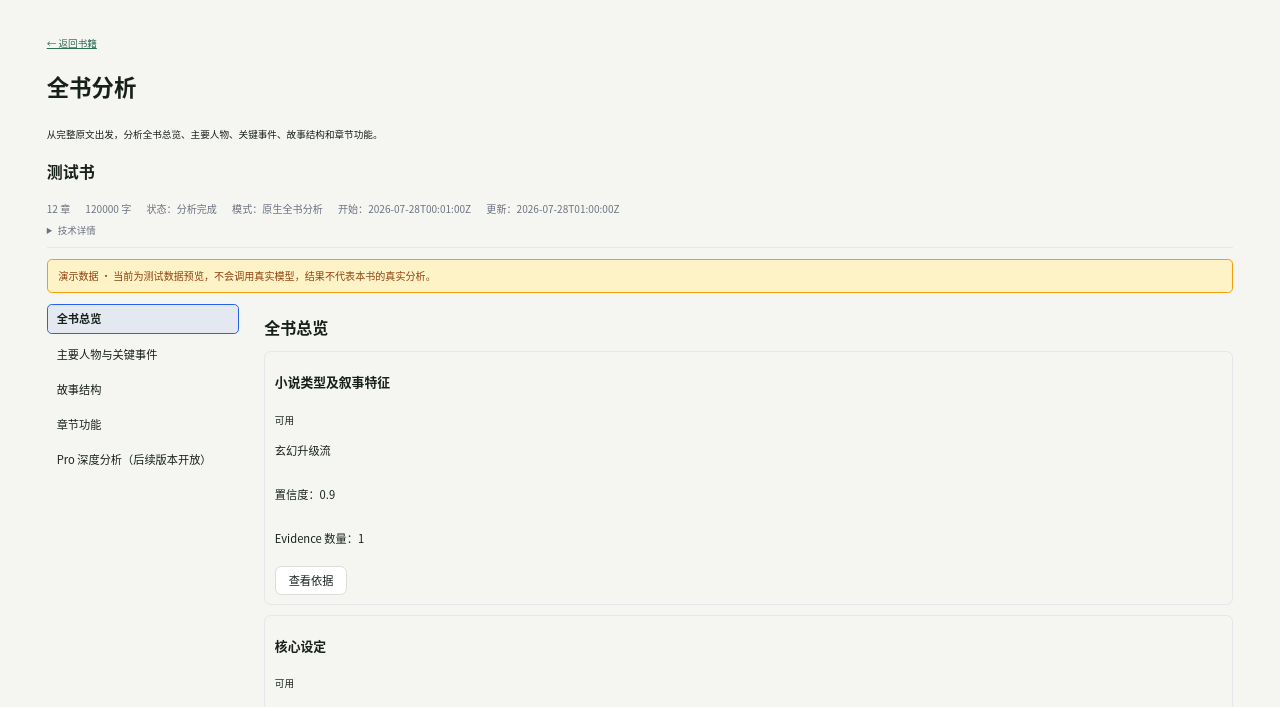
Test case: WholeBookFreeProduct (Wave D §18.2) › opens evidence drawer and reader deeplink
Click the button with test id "whole-book-free-claim-evidence-genre_and_narrative_features".
click(311, 580)  # box [275,566,347,595]
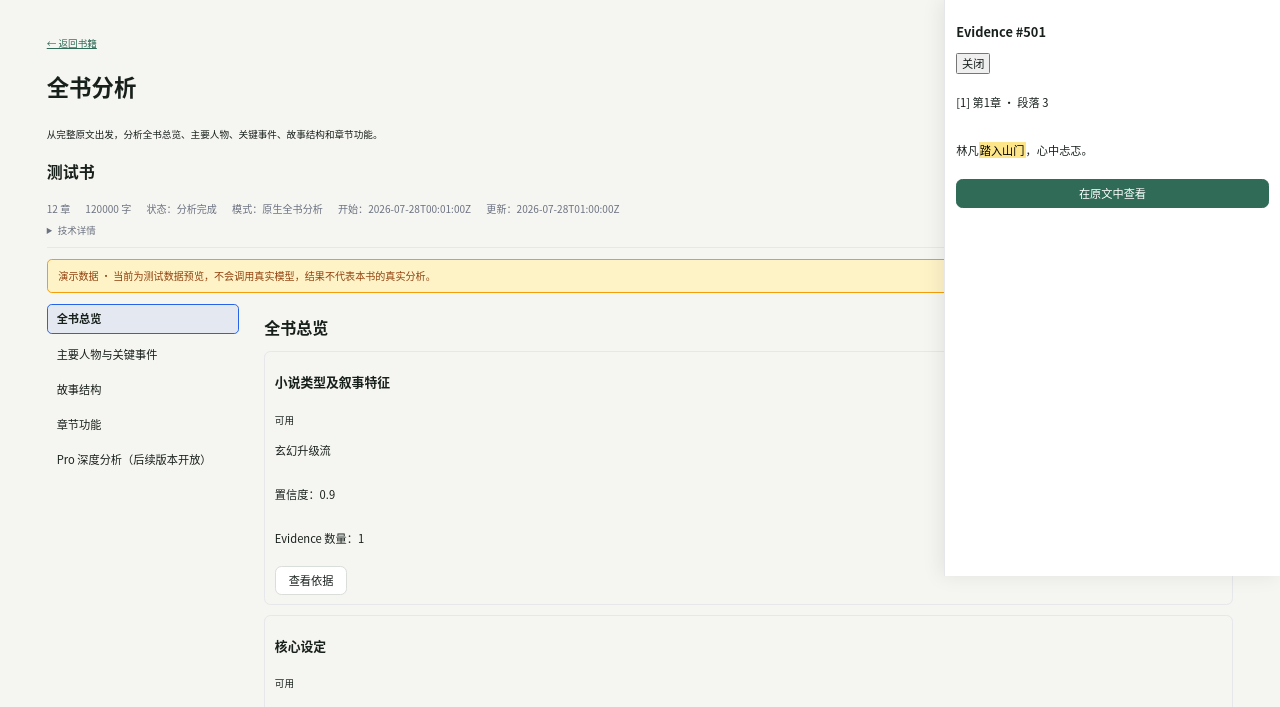
expect the dialog with test id "whole-book-free-evidence-drawer" is shown: met, box [944,0,1279,576]
expect the element with test id "whole-book-free-evidence-paragraph" shows "踏入山门": met, box [980,142,1024,158]
Click the button with test id "whole-book-free-open-in-reader".
click(1112, 193)  # box [956,179,1269,208]
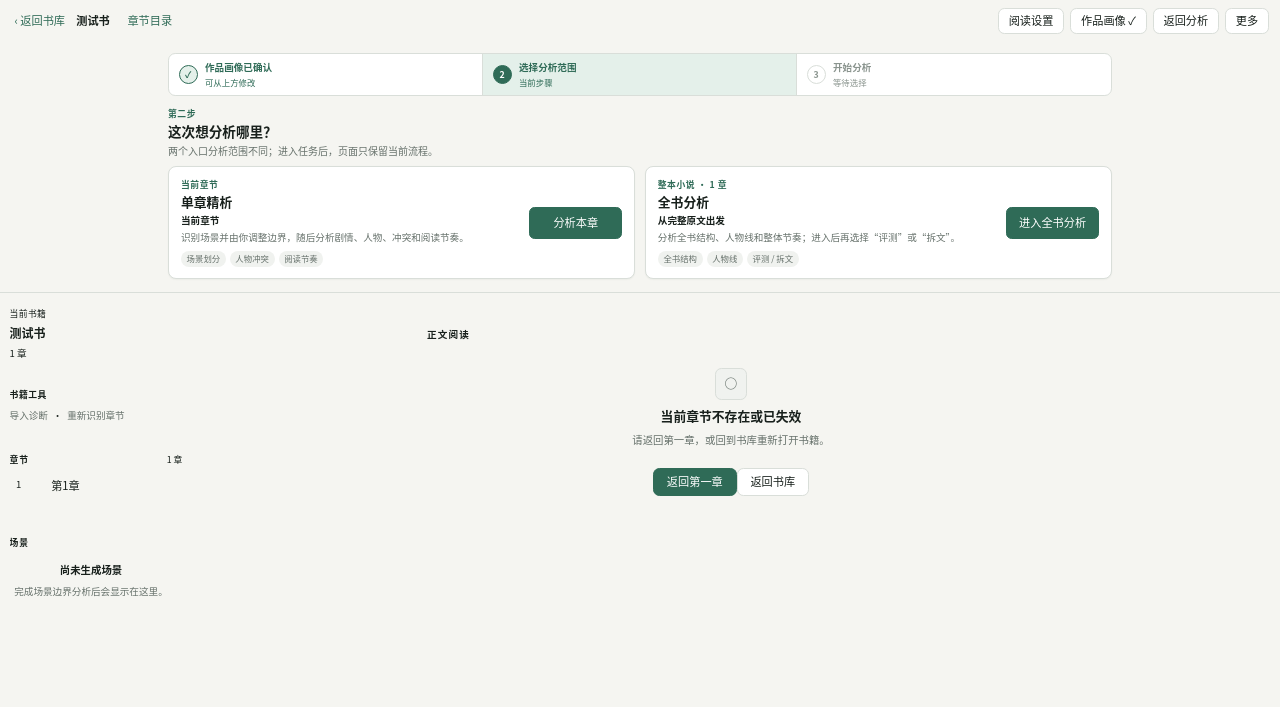
expect the element with test id "book-shell-toolbar" is shown: met, box [0,0,1279,42]
